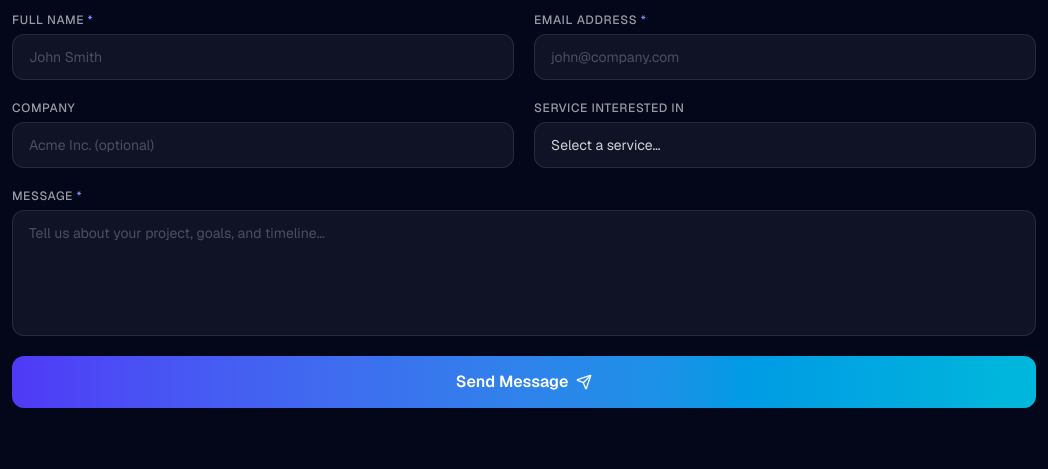
Test: ContactForm › shows validation errors when submitted empty
This screenshot has width=1048, height=469.
Step 1. Click the button "Send Message" → (524, 382), box [12,356,1036,408]
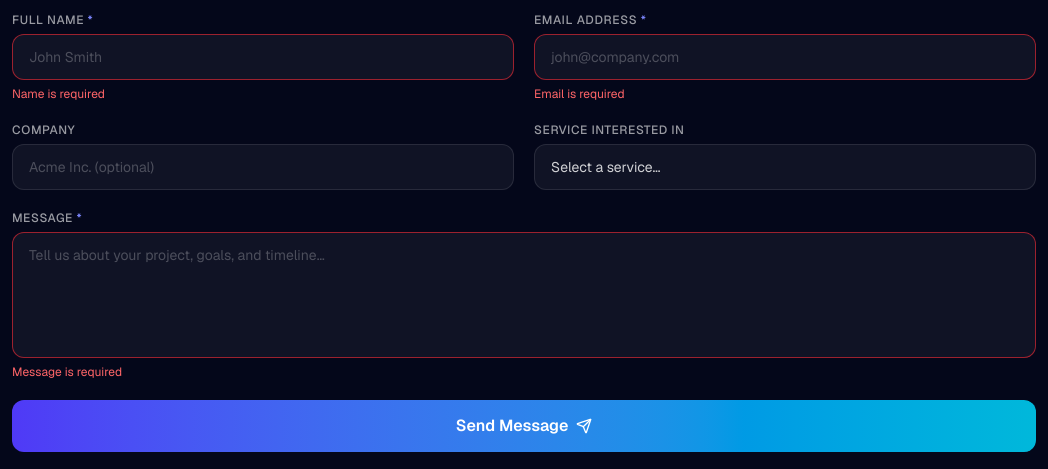
Check: the text "Name is required" is shown, box [12,86,105,102]
Check: the text "Email is required" is shown, box [534,86,625,102]
Check: the text "Message is required" is shown, box [12,364,122,380]
